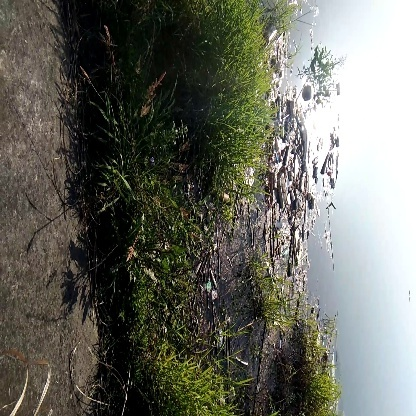grass: (211, 19, 270, 168)
